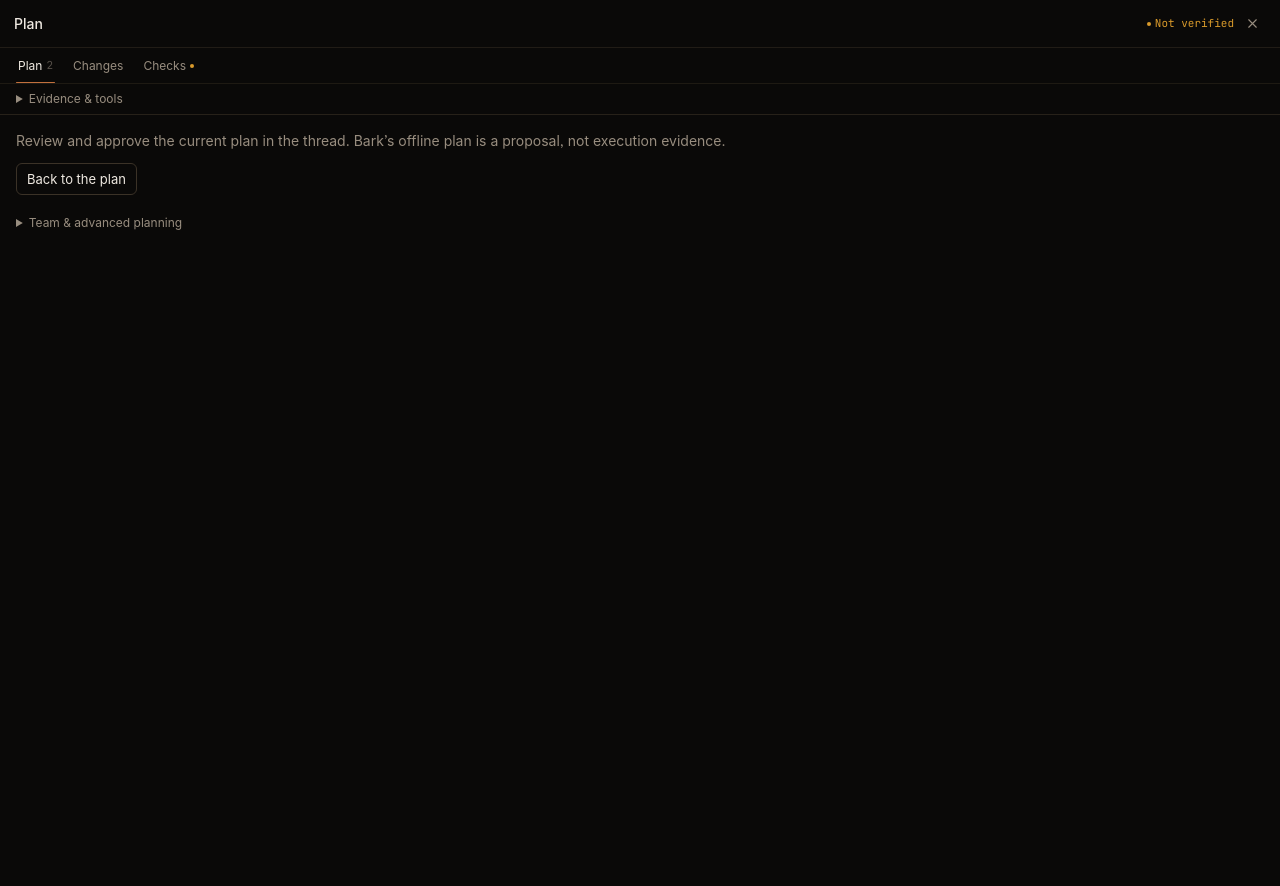
Test: InspectorPane › delegates a board card to a real agent profile with its skills
Click the heading "Team & advanced planning" at (105, 222), box [29,215,182,230]
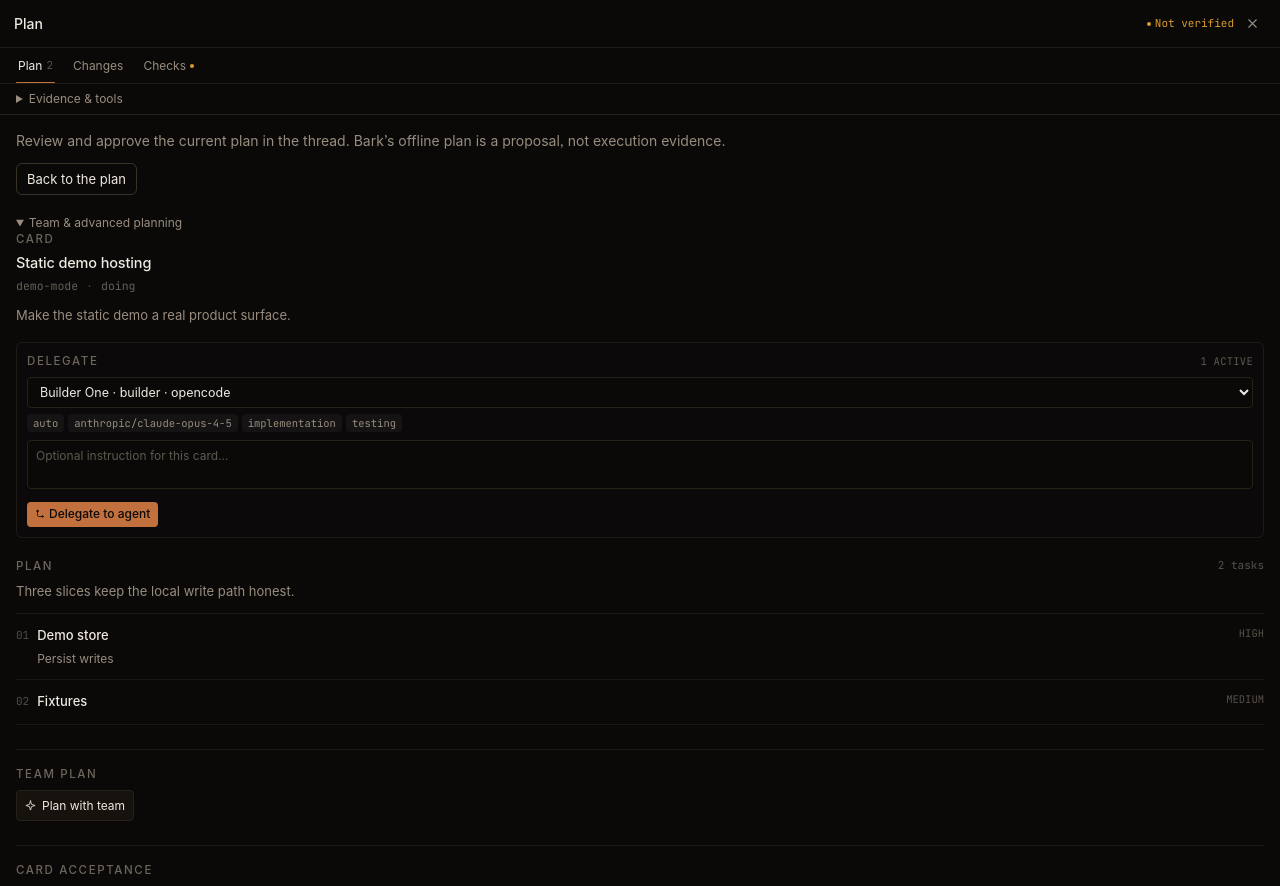
expect the dropdown named "Delegate to agent" is shown: met, box [27,377,1253,408]
Type "Keep the diff small" into the text box with placeholder "Optional instruction for this card…" at (640, 464), box [27,440,1253,489]
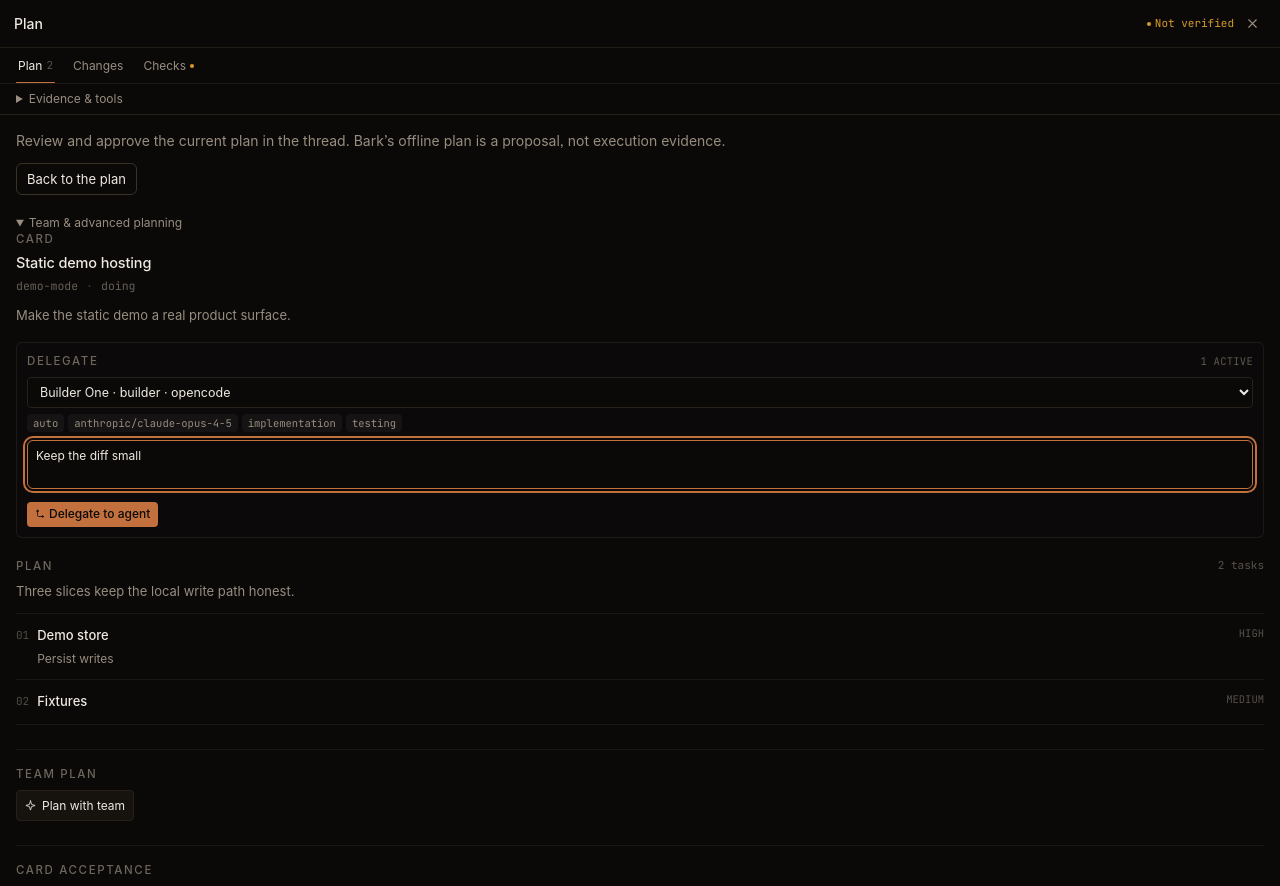
Click the button "Delegate to agent" at (93, 514), box [27,502,158,527]
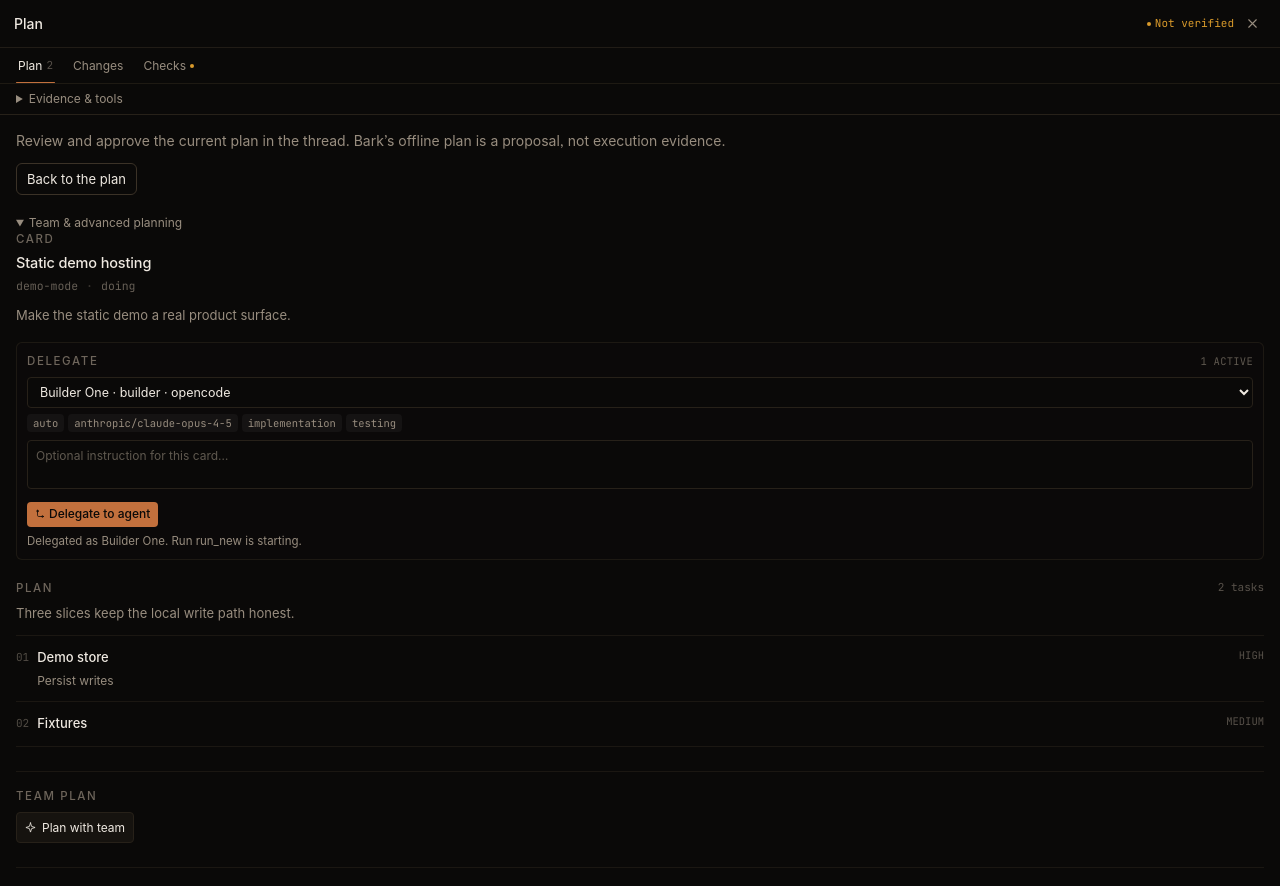
expect the text "Delegated as Builder One. Run run_new is starting." is shown: met, box [27,534,302,548]
